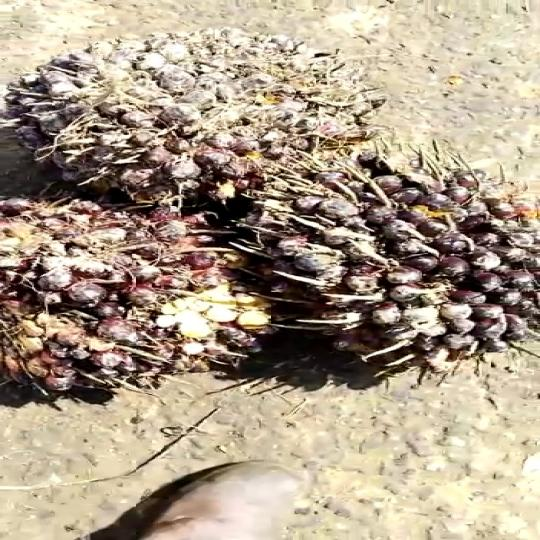kurang masak: (207, 139, 540, 386), (4, 26, 393, 205), (0, 182, 241, 400)
